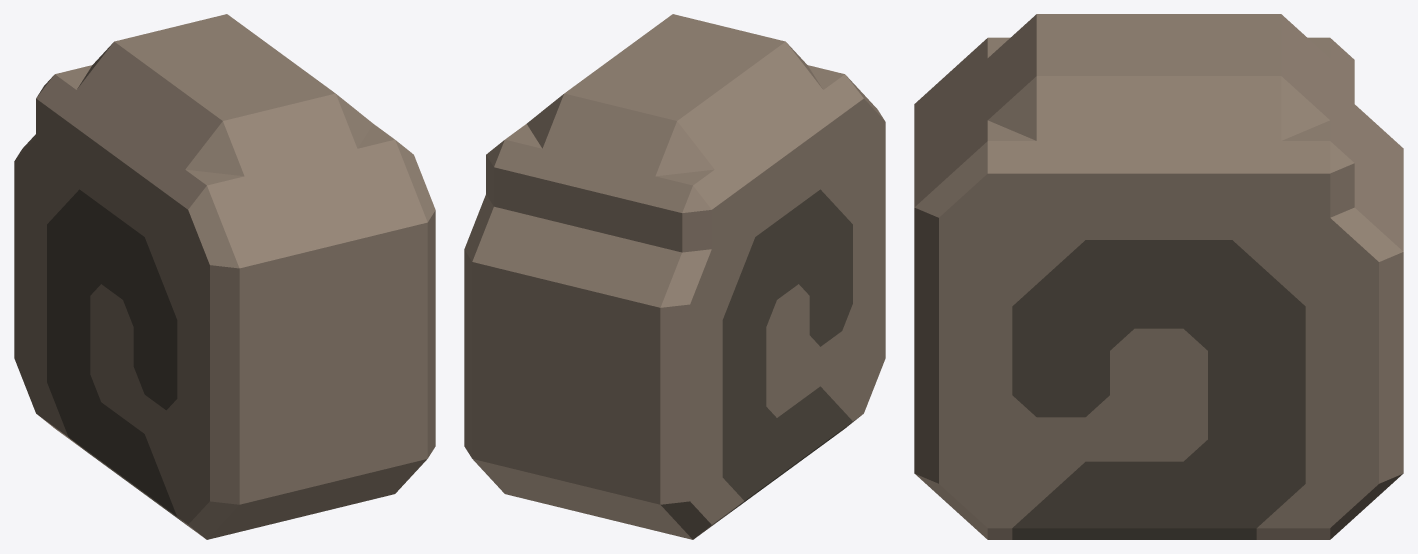
File: Shell dash.glb
3 renders of one model, left to right at view 1: azimuth 30°, elevation 25°; view 2: azimuth 150°, elevation 25°; view 3: azimuth 270°, elevation 25°, orthographic. The views are drawn at different scales.
Visible parts, largest first — view 1: pl0; view 2: pl0; view 3: pl0.
Part boxes in pixels (left/top/right/bottom): pl0: left=14, top=14, right=435, bottom=539; pl0: left=464, top=14, right=885, bottom=539; pl0: left=914, top=14, right=1403, bottom=539.
Size of the model in its own units: 0.6 by 1 by 1.
1 material, 1 textured.
